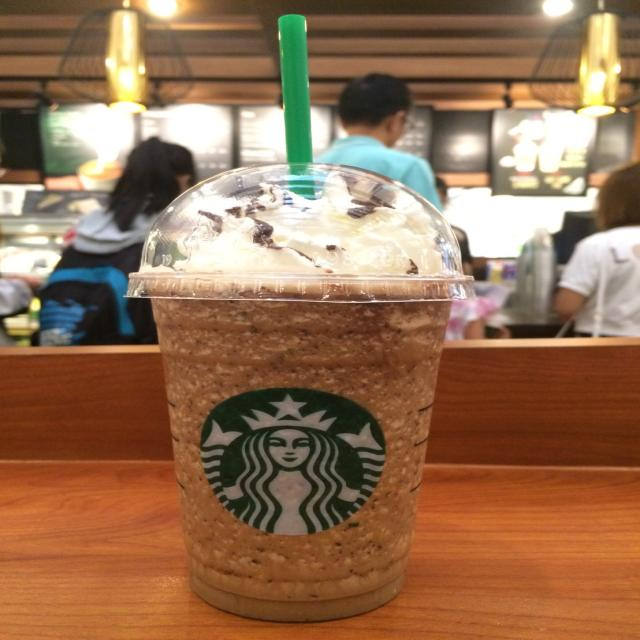cup: (124, 162, 480, 622)
